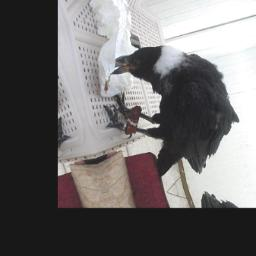Crow: (86, 25, 252, 194)
